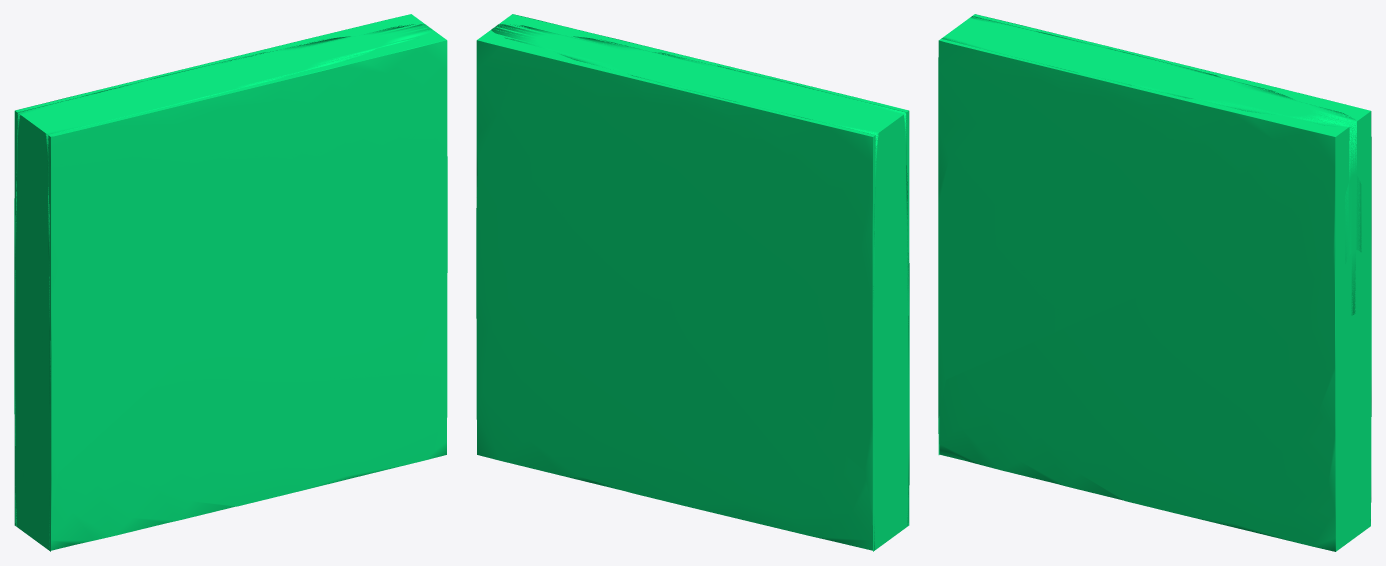
Rendered from quaternion_rotation_sketchfab_animated_1764416455924.glb.
The picture shows the model from 3 angles, left to right: view 1: azimuth 30°, elevation 25°; view 2: azimuth 150°, elevation 25°; view 3: azimuth 330°, elevation 25°; orthographic projection.
Visible parts, largest first — view 1: MathShape; view 2: MathShape; view 3: MathShape.
Part boxes in pixels (box(x1,y1,x2,y2)): MathShape: box(14, 14, 447, 551); MathShape: box(476, 14, 909, 551); MathShape: box(938, 14, 1371, 551).
Size of the model in its own units: 2000 by 2000 by 327.
